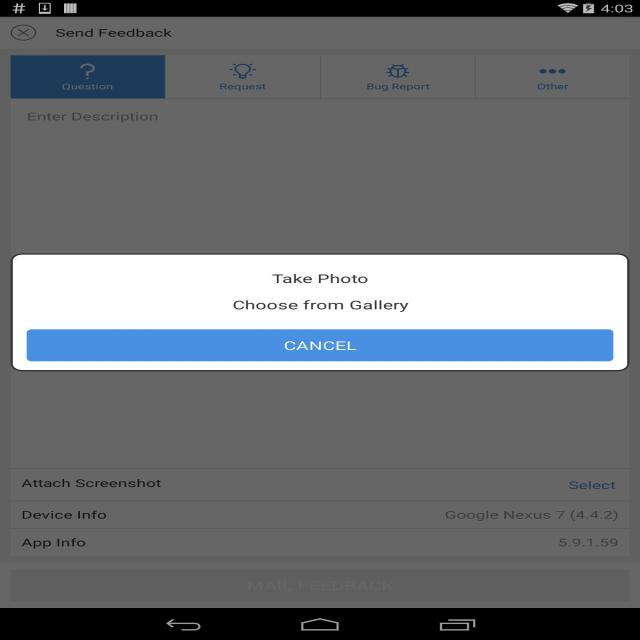button: (9, 569, 629, 602), (29, 328, 612, 361), (317, 56, 471, 99), (476, 57, 628, 99), (15, 55, 163, 98), (167, 56, 315, 98), (9, 21, 39, 44)
field: (15, 102, 627, 134)
heading: (229, 297, 414, 315), (53, 26, 178, 40), (272, 273, 369, 285)
label: (22, 110, 164, 125)
link: (567, 478, 618, 491)
text: (18, 506, 622, 524), (19, 476, 624, 492), (19, 537, 624, 550)
